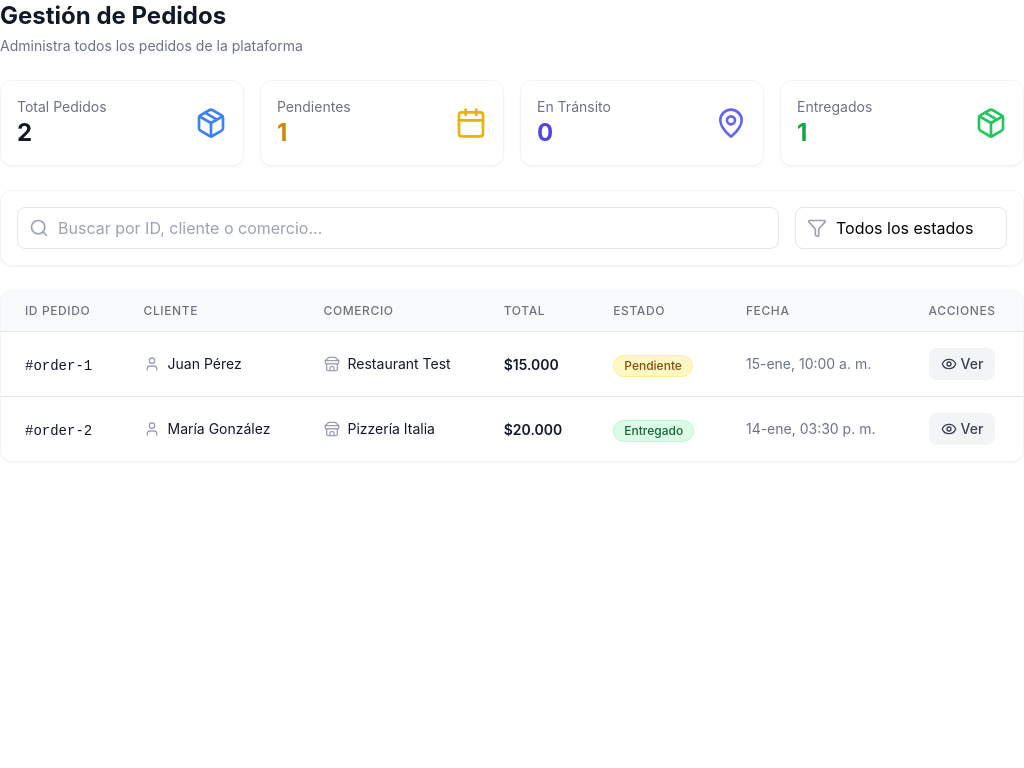
Test: Orders Component › Modal de detalle › debe mostrar información completa del pedido en el modal
Expected: the text "Restaurant Test" is shown, [348, 354, 451, 374]
Click the button "Ver" in the row of "order-1" at coordinates (962, 364), box [929, 348, 995, 380]
(page scrolled)
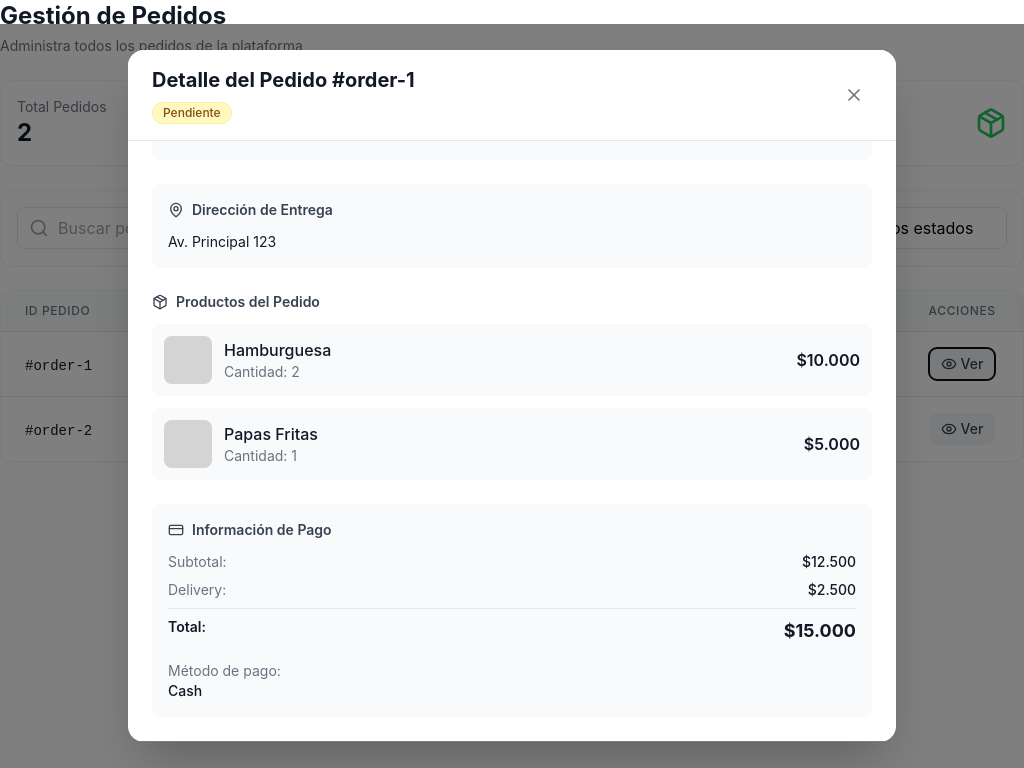
Now the text "Av. Principal 123" is shown, box [168, 233, 276, 250]
Now the text "$2.500" is shown, box [808, 580, 856, 600]
Now the text "Hamburguesa" is shown, box [224, 338, 331, 362]
